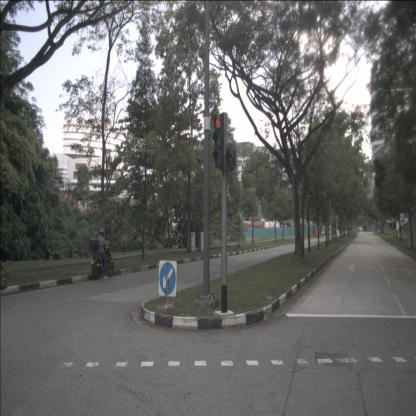vehicle-motorcycle: (89, 228, 115, 280)
